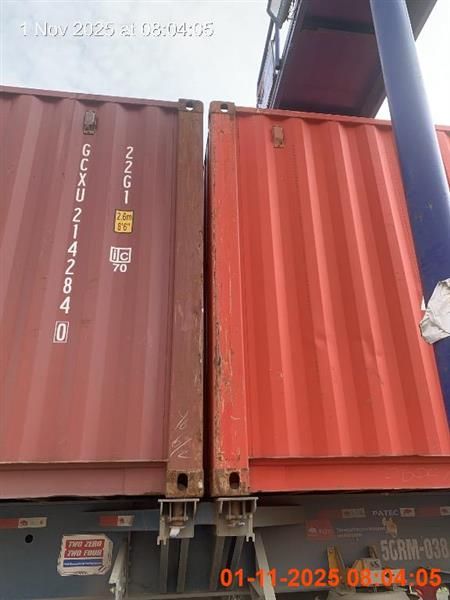broken: (4, 0, 449, 596)
